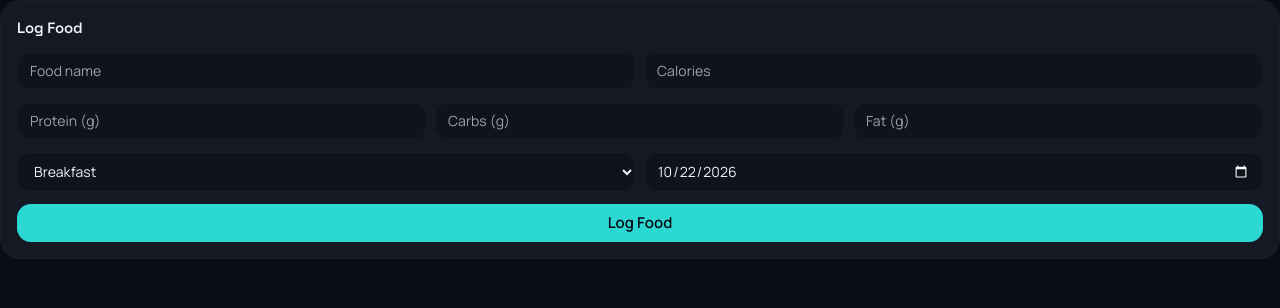
Scenario: FoodEntryForm › shows error when calories is empty
Type "Rice" into the field labelled "Food name" at (326, 70), box [17,52,636,90]
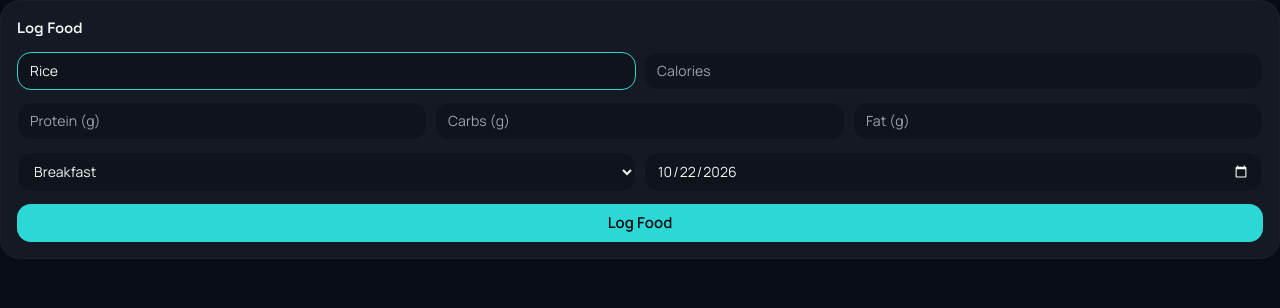
Click the button "Log Food" at (640, 223), box [17,204,1263,242]
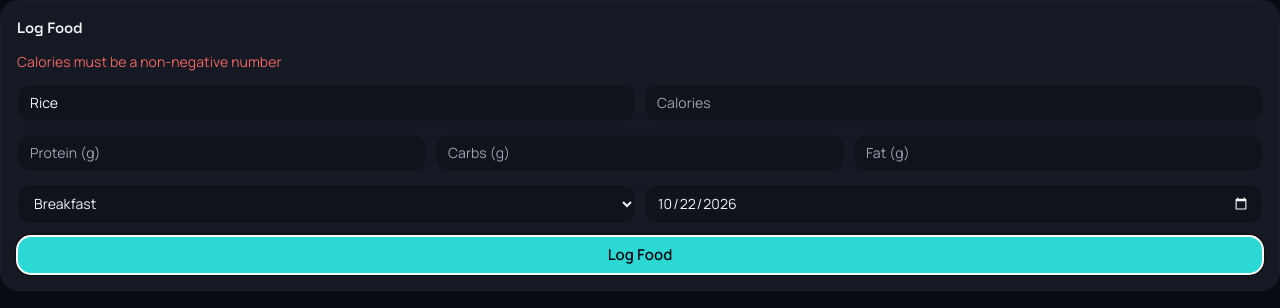
expect the text "Calories must be a non-negative number" is shown: met, box [17,52,282,70]
